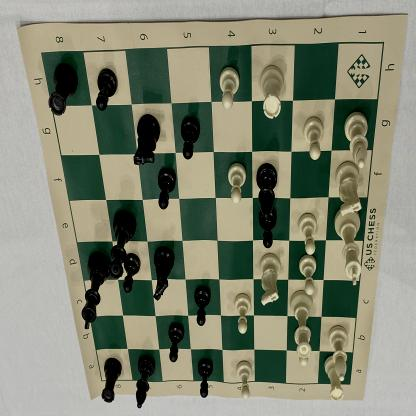black-bishop: (254, 161, 280, 221), (134, 353, 156, 412)
black-king: (80, 252, 110, 332)
black-knight: (134, 113, 161, 169), (152, 244, 176, 303)
black-pawn: (155, 165, 180, 213), (96, 66, 121, 113), (180, 115, 200, 163), (192, 283, 212, 329), (195, 356, 215, 400), (259, 206, 278, 250), (123, 250, 141, 294), (167, 320, 185, 364)
black-queen: (109, 204, 137, 278)
black-rook: (48, 63, 80, 118), (99, 356, 123, 405)
white-bishop: (342, 111, 371, 169), (327, 324, 350, 381)
white-king: (334, 207, 364, 287)
white-knight: (332, 161, 364, 216), (258, 252, 282, 306)
white-pawn: (218, 62, 242, 111), (302, 114, 325, 162), (297, 211, 319, 258), (226, 160, 247, 207), (232, 292, 252, 336), (298, 252, 318, 296), (235, 359, 255, 402), (292, 326, 312, 368)
white-queen: (288, 288, 316, 358)
white-rook: (259, 62, 286, 122), (324, 354, 344, 403)
